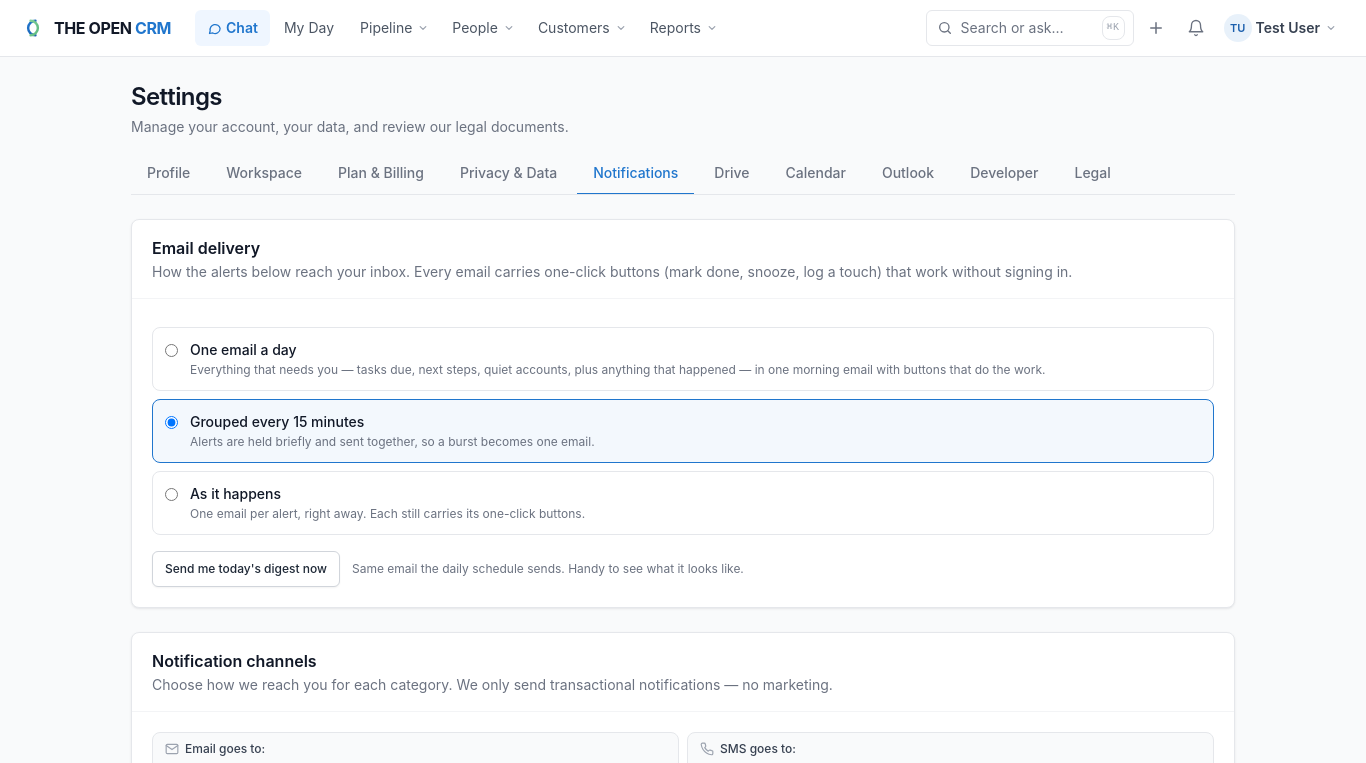
Settings → Notifications → Email delivery › reflects a stored preference and "send now" reports the result
Expected: the radio button labelled "Grouped every 15 minutes" is checked, left=165, top=416, right=178, bottom=429
Click the button "Send me today's digest now". click: (246, 569)
box: left=152, top=551, right=340, bottom=587
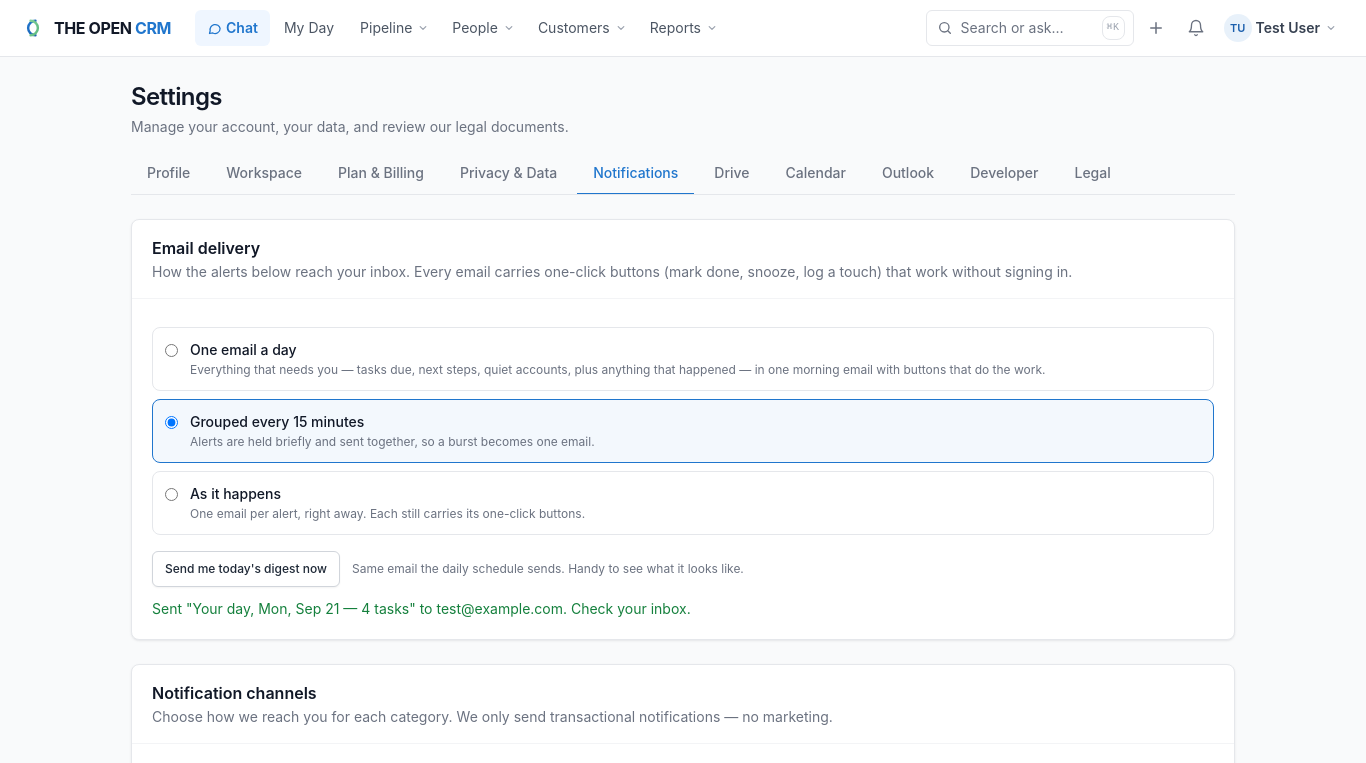
Now the text "Sent \"Your day, Mon, Sep 21 — 4 tasks\" to test@example.com. Check your inbox." is shown, box left=152, top=600, right=691, bottom=617
Click the button "Send me today's digest now". click: (246, 569)
box: left=152, top=551, right=340, bottom=587
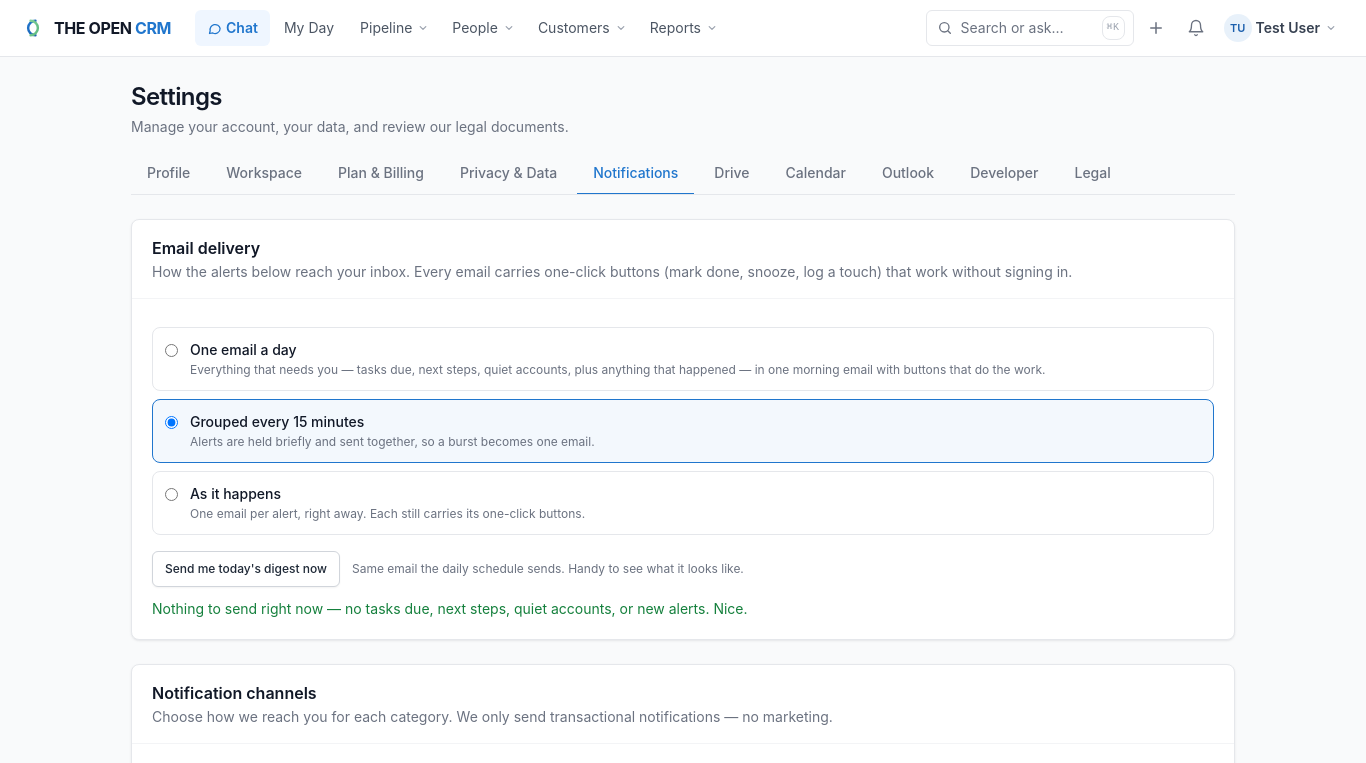
Now the text "Nothing to send right now" is shown, box left=152, top=600, right=748, bottom=617
